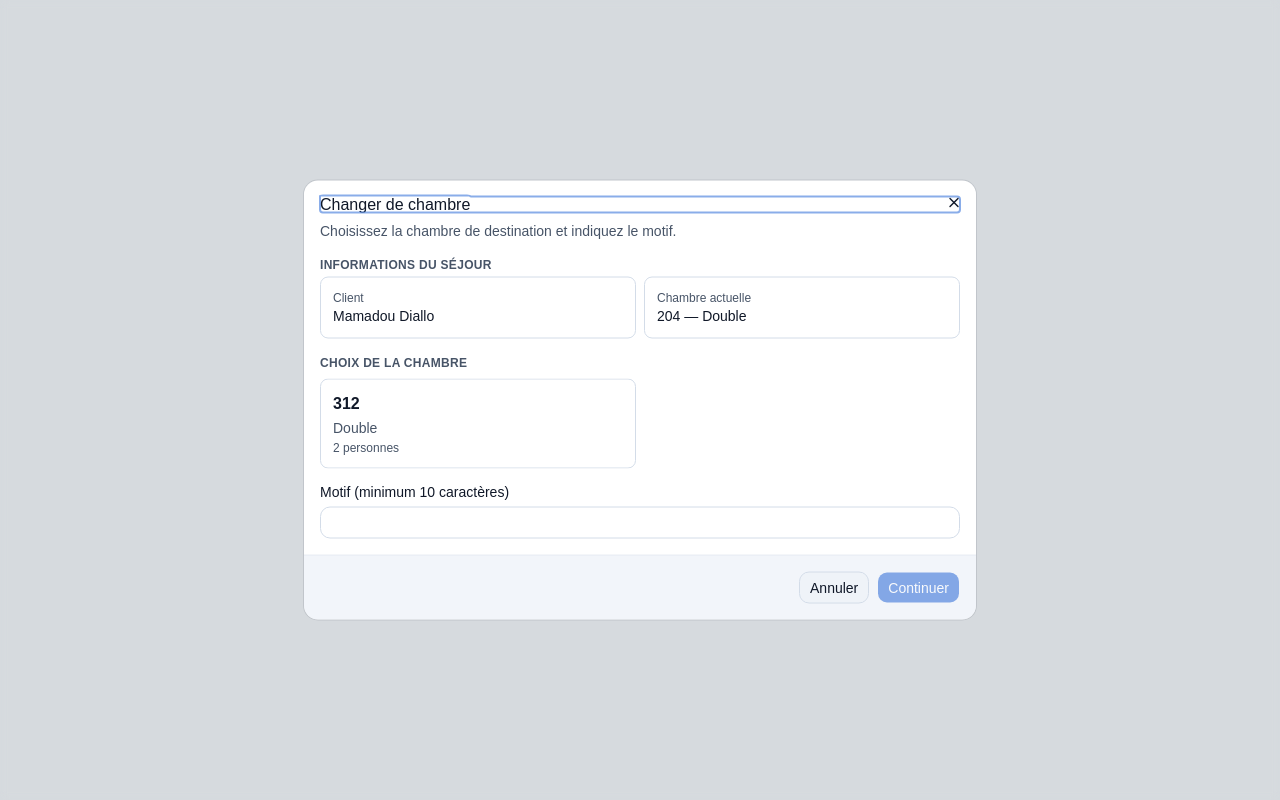
Scenario: ChangeRoomDialog — impact tarifaire (DESIGN-009B) › affiche la baisse tarifaire renvoyée par le serveur
Click the button "312 Double 2 personnes": (355,428) [320,378,636,468]
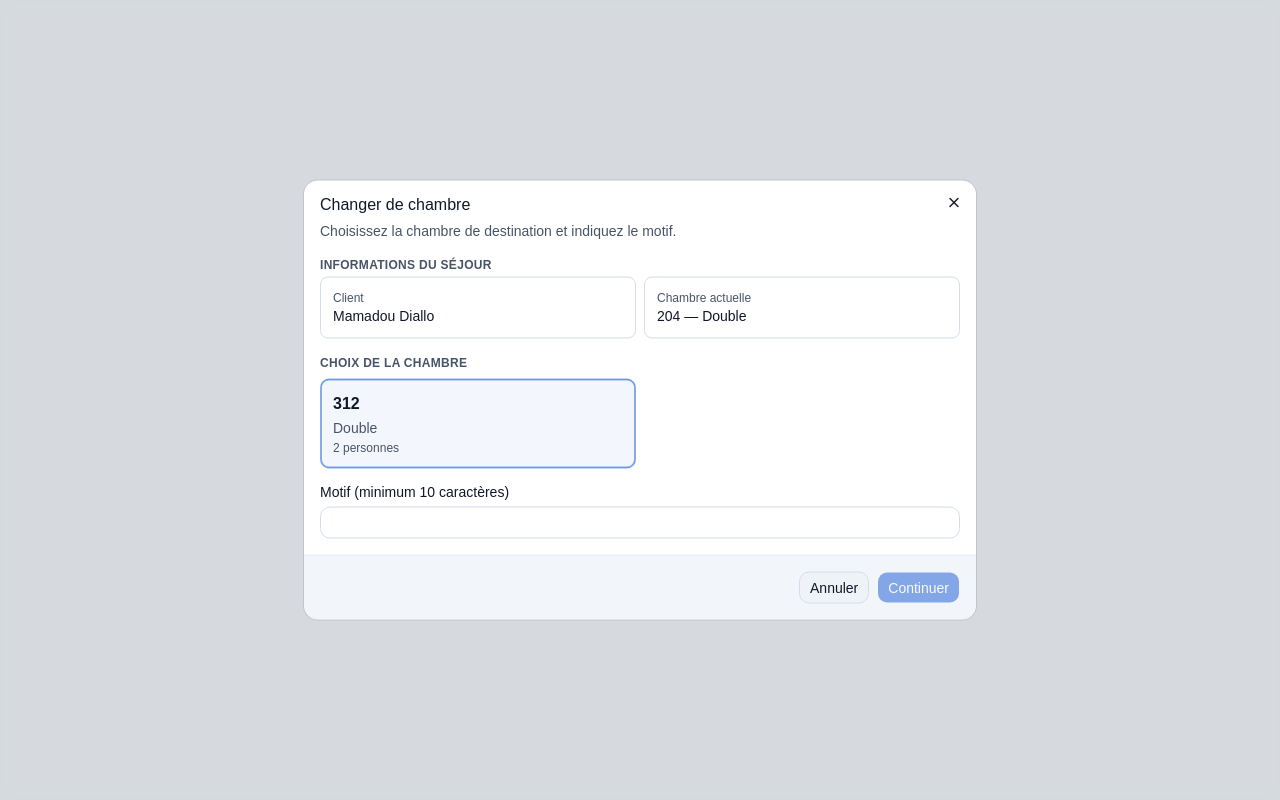
In the field labelled "Motif (minimum 10 caractères)": (640,522) [320,506,960,538], type "Demande du client"
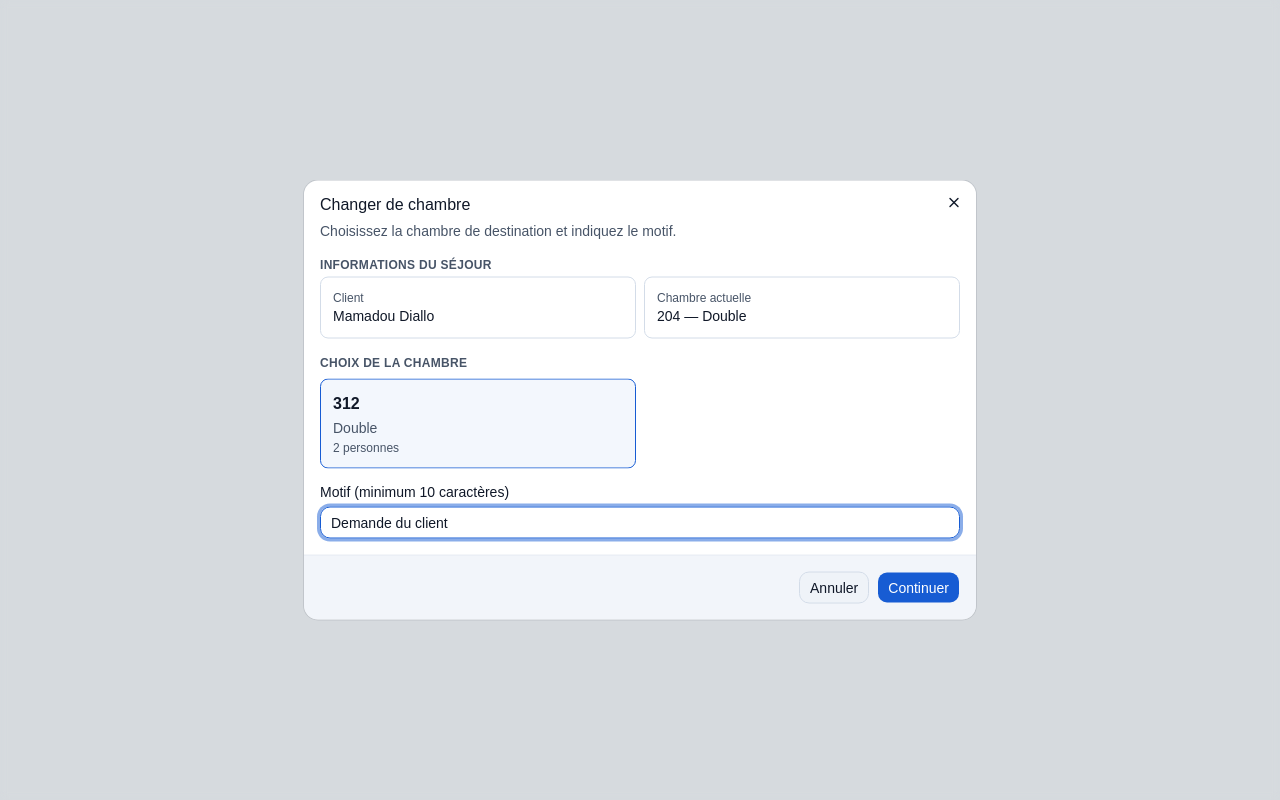
Click the button "Continuer": (919,588) [877,572,960,604]
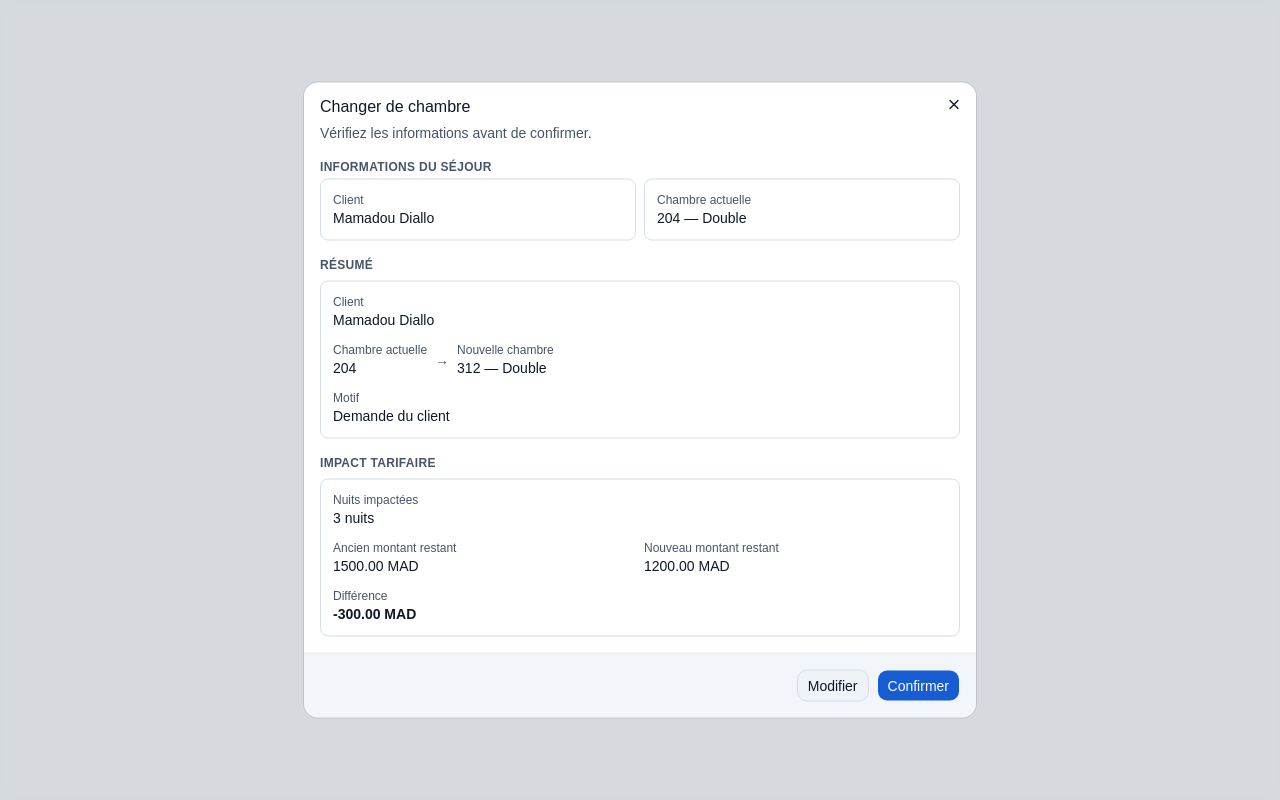
Check: the text "-300.00 MAD" is shown, box [333,606,416,622]
